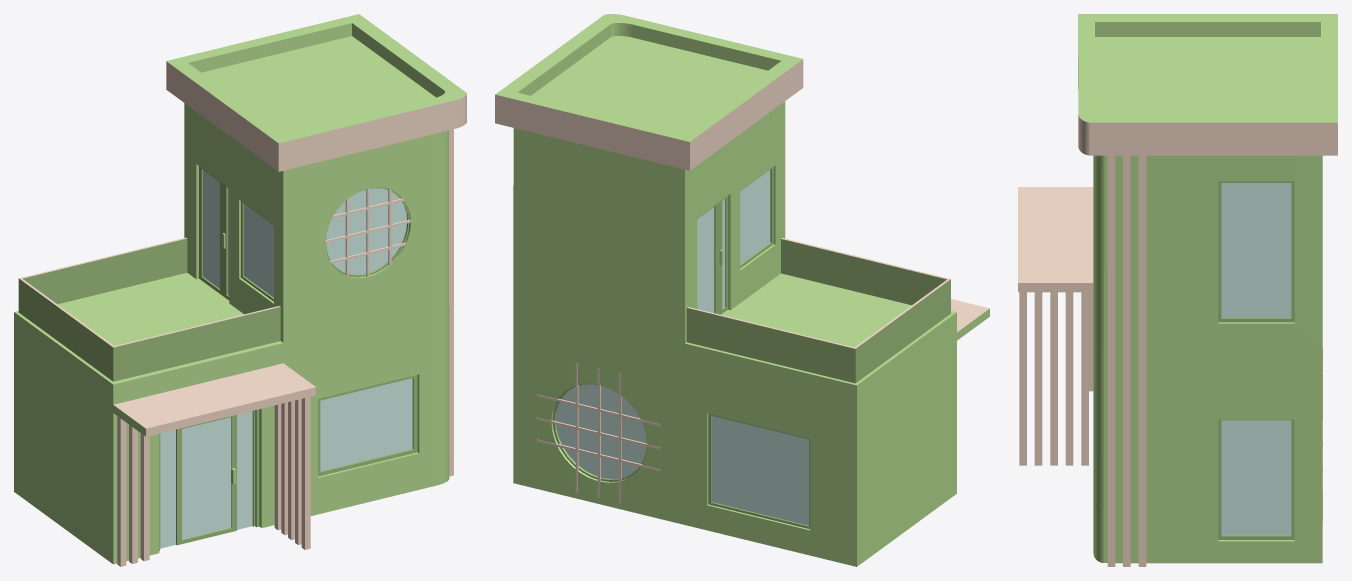
File: GreenHouse.fbx
3 renders of one model, left to right at view 1: azimuth 30°, elevation 25°; view 2: azimuth 150°, elevation 25°; view 3: azimuth 270°, elevation 25°, orthographic. The views are drawn at different scales.
Parts seen in each view (by area): view 1: green_house; view 2: green_house; view 3: green_house.
Part boxes in pixels (box(x1,y1,x2,y2)): green_house: box(14, 14, 466, 566); green_house: box(495, 14, 989, 566); green_house: box(1018, 14, 1337, 566).
Size of the model in its own units: 631 by 665 by 430.
